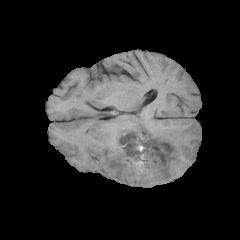glioma: (103, 112, 183, 185)
